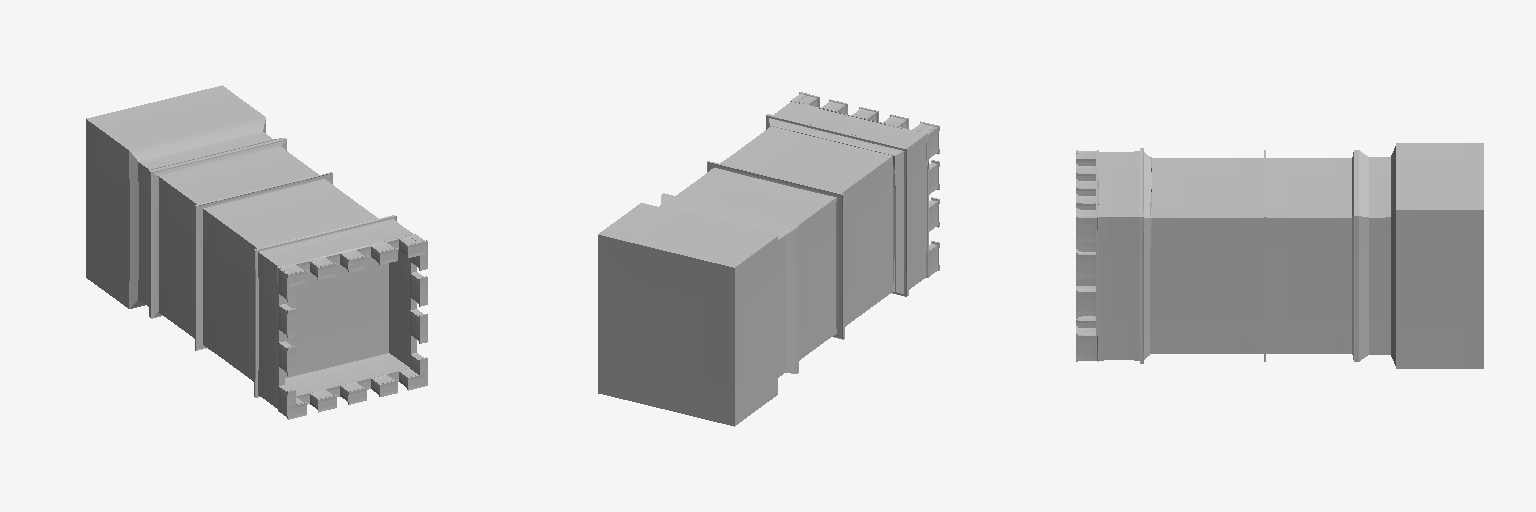
File: castle.obj
The picture shows the model from 3 angles: view 1: azimuth 30°, elevation 25°; view 2: azimuth 150°, elevation 25°; view 3: azimuth 270°, elevation 25°; orthographic projection.
Visible parts, largest first — view 1: Cube.001; view 2: Cube.001; view 3: Cube.001.
Boxes of the visible parts, x1,y1,x2,y2 form: Cube.001: [86, 85, 427, 419]; Cube.001: [598, 92, 939, 426]; Cube.001: [1076, 143, 1483, 368].
Size of the model in its own units: 0.3012 by 0.324 by 0.7533.